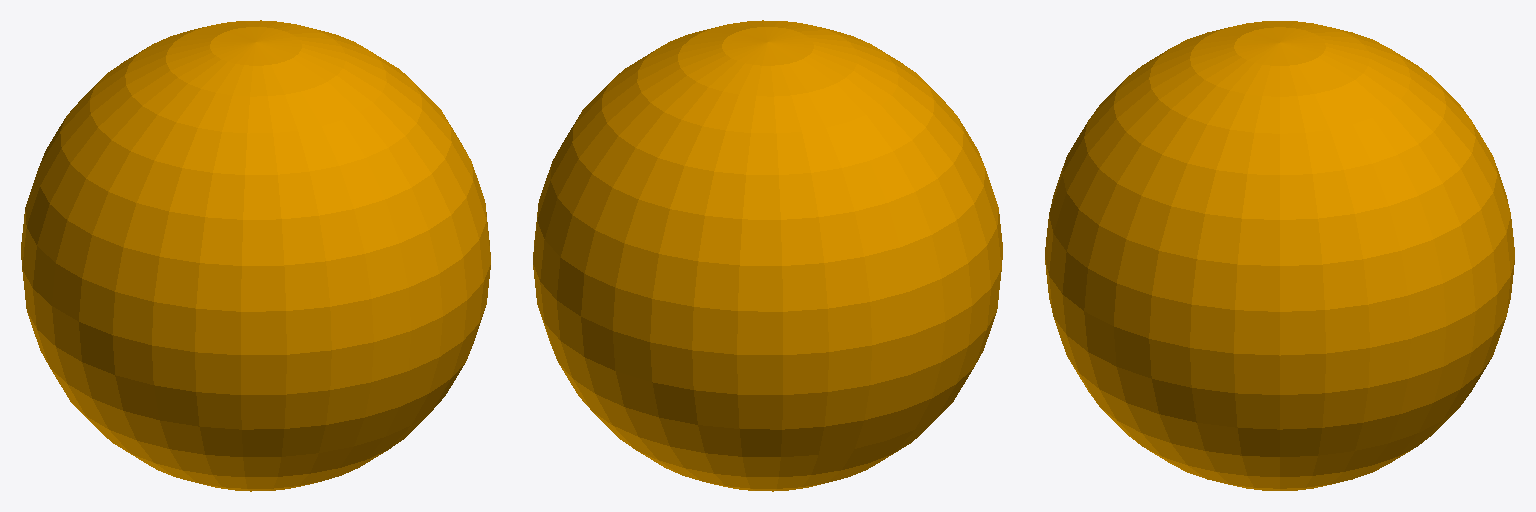
robot.urdf — Orig8:
<?xml version="1.0"?>
<robot name="Orig8">
  <link name="Orig8">
    <inertial>
      <origin xyz="0 0 0" /> 
      <mass value="0.1" />
      <inertia  ixx="1.0" ixy="0.0"  ixz="0.0"  iyy="1.0"  iyz="0.0"  izz="1.0" />
    </inertial>
    <visual>
      <origin xyz="-0.0466668 0.00795207 -0.8249586" rpy="0 0 0"/>
      <geometry>
        <sphere radius="0.01"/>
      </geometry>
    </visual>
    <collision>
      <origin xyz="-0.0466668 0.00795207 -0.8249586" rpy="0 0 0"/>
      <geometry>
        <sphere radius="0"/>
      </geometry>
    </collision>
  </link>
  <gazebo reference="Orig8">
    <material>Gazebo/Blue</material>
    <turnGravityOff>true</turnGravityOff>
  </gazebo>
</robot>

--- What the picture shows (computed from the rendered views, not written in the file) ---
The picture shows the robot from 3 angles, left to right: view 1: azimuth 30°, elevation 25°; view 2: azimuth 150°, elevation 25°; view 3: azimuth 270°, elevation 25°; orthographic projection.
Robot: Orig8 — 1 links, 0 joints (none); root link Orig8; default pose: every joint at zero.
Links seen in each view (by area): view 1: Orig8; view 2: Orig8; view 3: Orig8.
Link boxes in pixels (left/top/right/bottom): Orig8: left=21, top=20, right=490, bottom=491; Orig8: left=533, top=20, right=1002, bottom=491; Orig8: left=1045, top=21, right=1514, bottom=490.
Bounding box of the posed robot: 0.02 × 0.02 × 0.02 m (x, y, z).
Geometry: primitives only (box / cylinder / sphere), no mesh files.